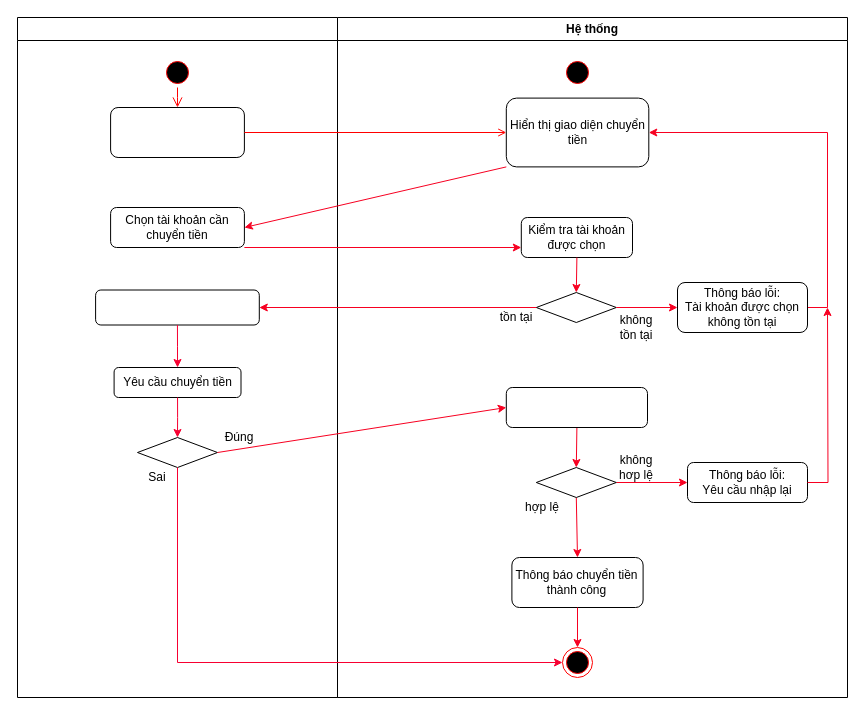
Some shapes in this 865 by 715 pixel diagram are drawn without their labels. Here are the shapes that lost their labels. From the top down, the box of each, then its label:
(110, 106, 244, 158): Chọn chức năng Chuyển tiền
(95, 289, 259, 325): Nhập số tiền cần chuyển
(16, 16, 338, 698): User
(505, 386, 648, 428): Kiểm tra số tiền nhập vào
